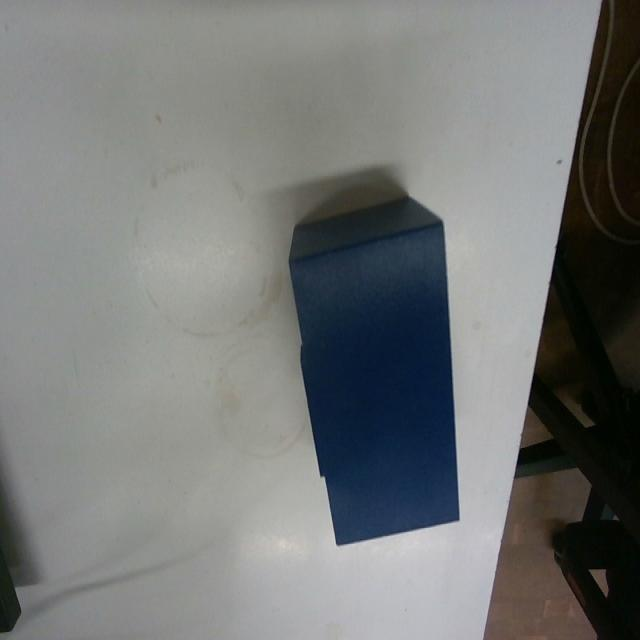Blue Cuboid: (286, 190, 462, 546)
